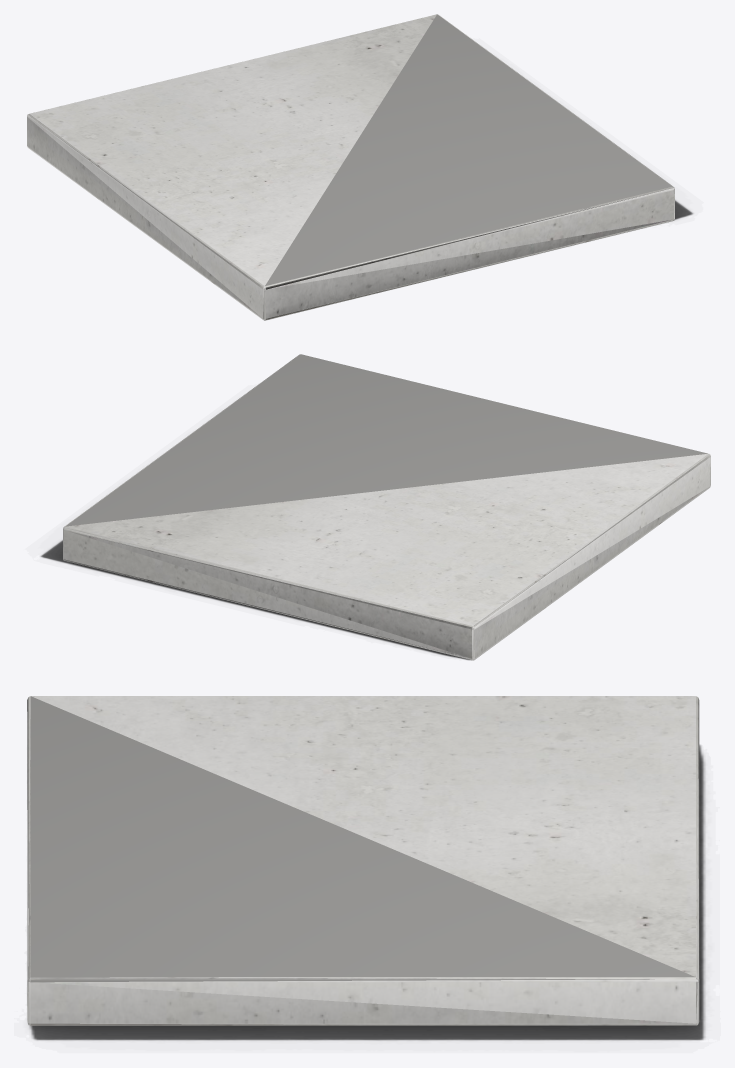
File: table-platte-10.gltf
3 views of the same model, one above another, from view 1: azimuth 30°, elevation 25°; view 2: azimuth 150°, elevation 25°; view 3: azimuth 270°, elevation 25° (orthographic). The views are drawn at different scales.
Visible parts, largest first — view 1: Table-Platte_10.001; view 2: Table-Platte_10.001, Schatten; view 3: Table-Platte_10.001, Schatten.
Boxes of the visible parts, x1,y1,x2,y2 form: Table-Platte_10.001: (27, 14, 674, 320); Table-Platte_10.001: (63, 354, 710, 660); Schatten: (40, 540, 470, 660); Table-Platte_10.001: (27, 696, 699, 1025); Schatten: (29, 745, 705, 1040).
Size of the model in its own units: 1.39 by 0.1 by 1.32.
2 materials, 2 textured.
